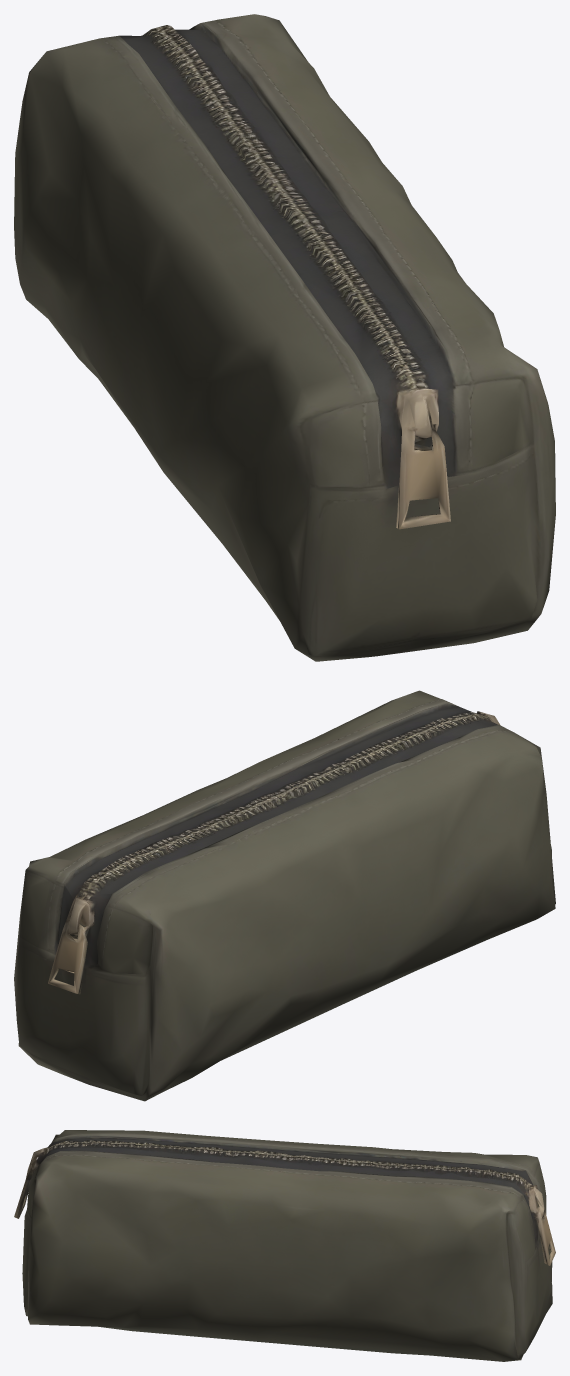
File: ENV_SMALL_PROPS_PENCIL_CASE_v001_RAW.glb.glb
3 views of the same model, one above another, from view 1: azimuth 30°, elevation 25°; view 2: azimuth 150°, elevation 25°; view 3: azimuth 270°, elevation 25° (orthographic). The views are drawn at different scales.
Parts seen in each view (by area): view 1: tripo_node_73e7a000-9f28-4fb9-9196-5436f7b3adc6; view 2: tripo_node_73e7a000-9f28-4fb9-9196-5436f7b3adc6; view 3: tripo_node_73e7a000-9f28-4fb9-9196-5436f7b3adc6.
Boxes of the visible parts, x1,y1,x2,y2 form: tripo_node_73e7a000-9f28-4fb9-9196-5436f7b3adc6: (14, 14, 555, 661); tripo_node_73e7a000-9f28-4fb9-9196-5436f7b3adc6: (14, 690, 555, 1101); tripo_node_73e7a000-9f28-4fb9-9196-5436f7b3adc6: (14, 1130, 555, 1361).
Size of the model in its own units: 0.4672 by 0.3452 by 0.9828.
1 material, 1 textured.
